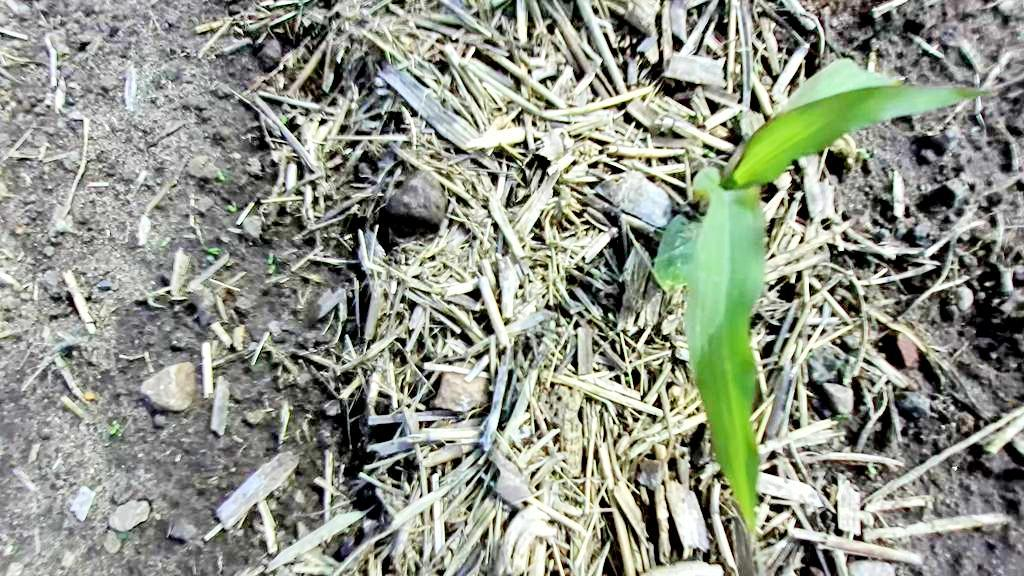BroWeed: (904, 30, 945, 62), (827, 130, 863, 165), (833, 354, 857, 387), (51, 217, 77, 240), (865, 461, 880, 480), (700, 146, 717, 160), (751, 62, 765, 78), (110, 418, 122, 436), (277, 111, 290, 126), (205, 251, 218, 264), (858, 147, 871, 160), (207, 243, 221, 255), (159, 235, 171, 249), (266, 263, 277, 277), (226, 200, 238, 212), (85, 391, 97, 401), (834, 413, 849, 420), (65, 216, 73, 229), (117, 532, 128, 541), (216, 170, 225, 180), (341, 147, 352, 155), (267, 251, 273, 265), (624, 377, 629, 386), (343, 527, 350, 533), (555, 473, 560, 480)
